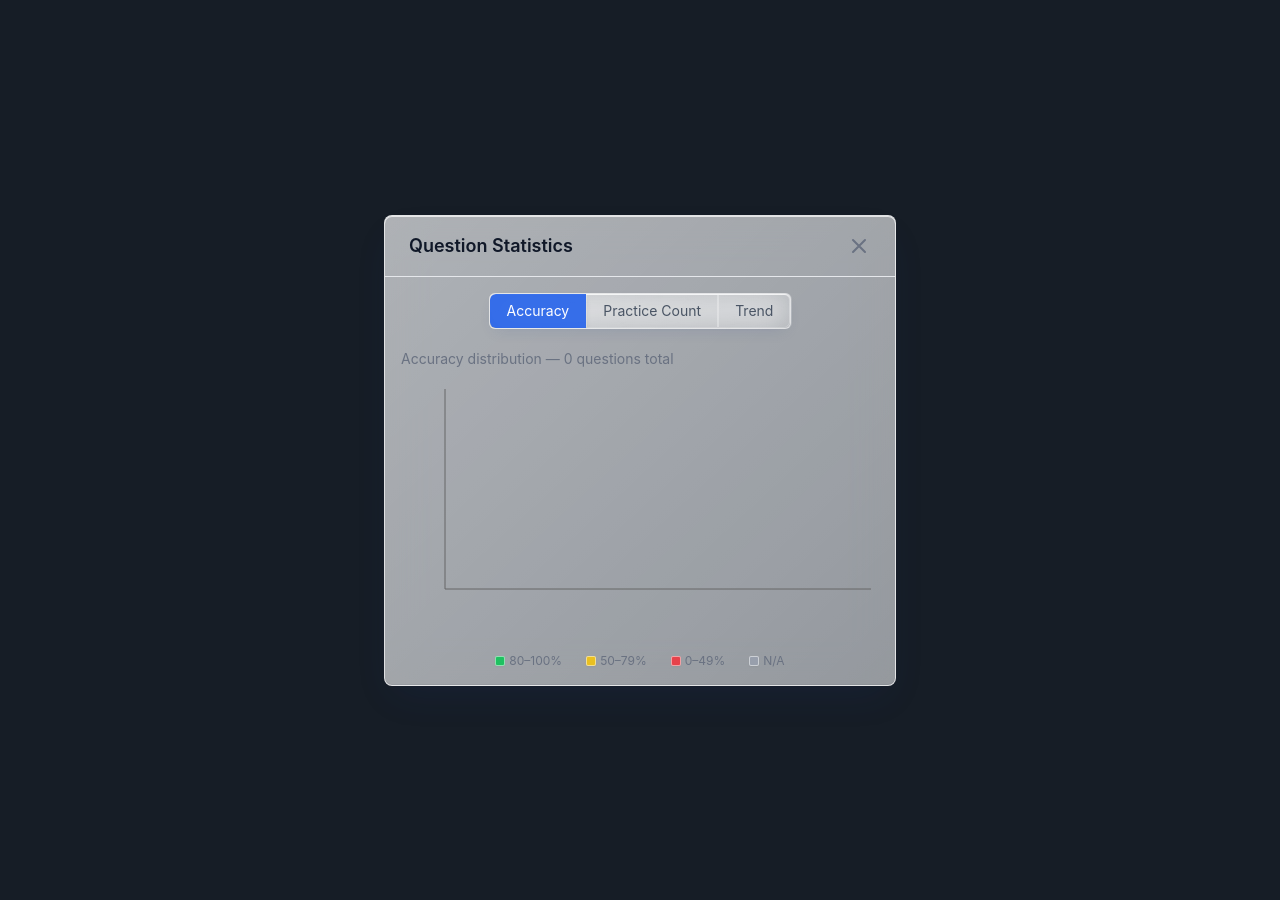
Scenario: QuestionStatsModal › shows an error message on the trend tab when the trend request fails
Expected: the text "Accuracy distribution — 0 questions total" is shown, [401, 350, 674, 366]
What coordinates should you click on to do the following:
click the button "Trend"
I would click on:
 (754, 310)
Its box is [718, 294, 790, 328].
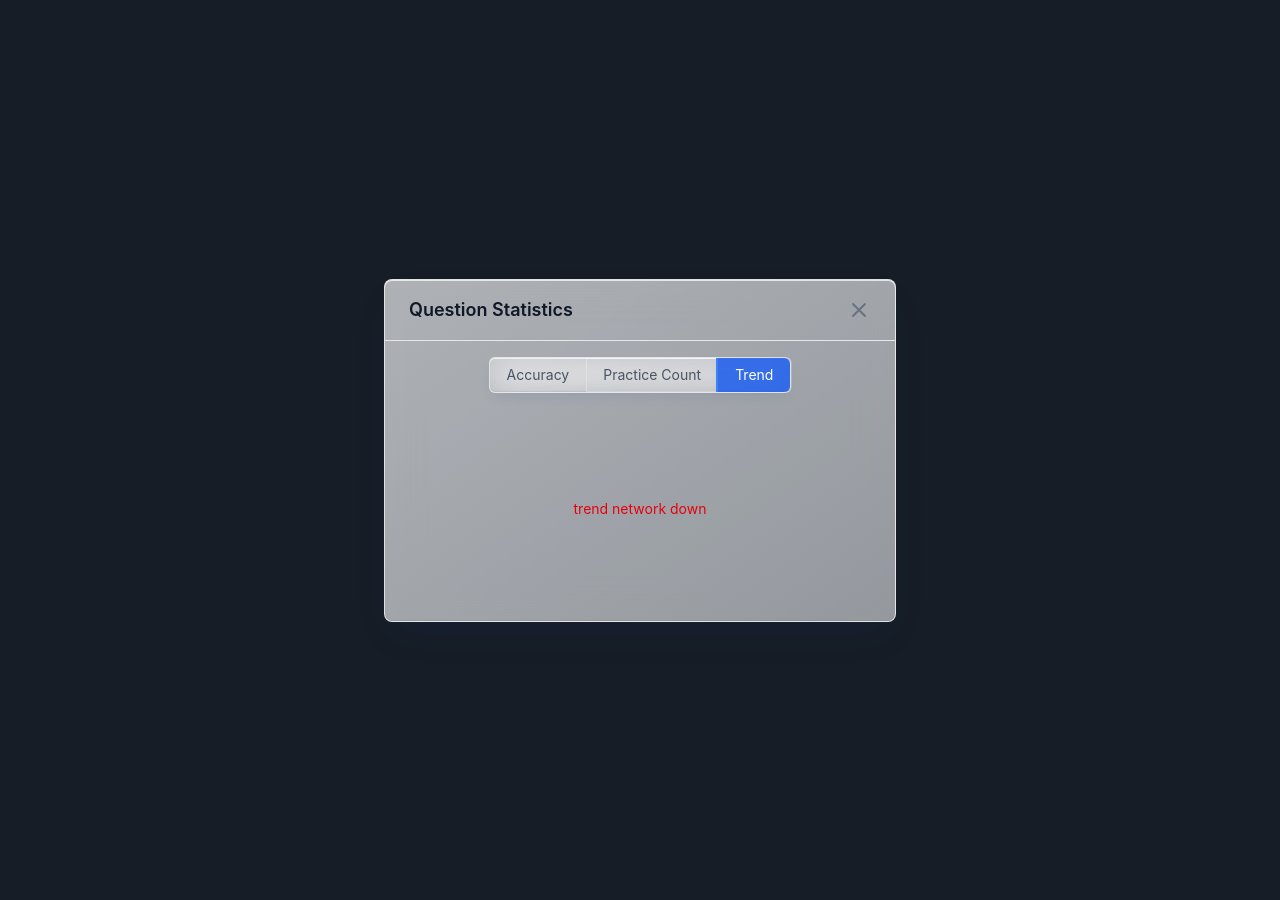
Now the text "trend network down" is shown, box [574, 500, 706, 516]
